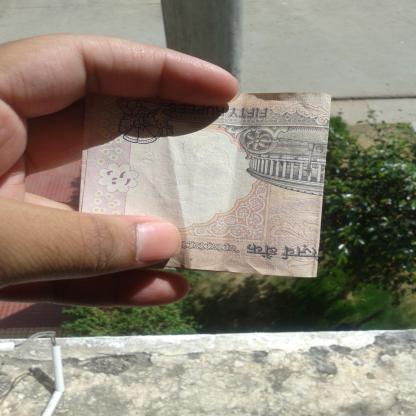Old50Back: (77, 91, 331, 279)
